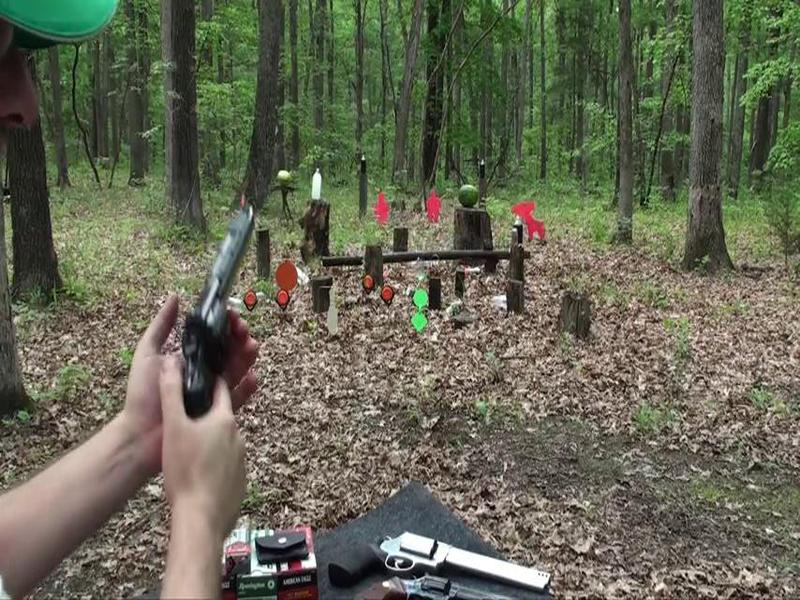Revolver: (159, 192, 280, 418)
